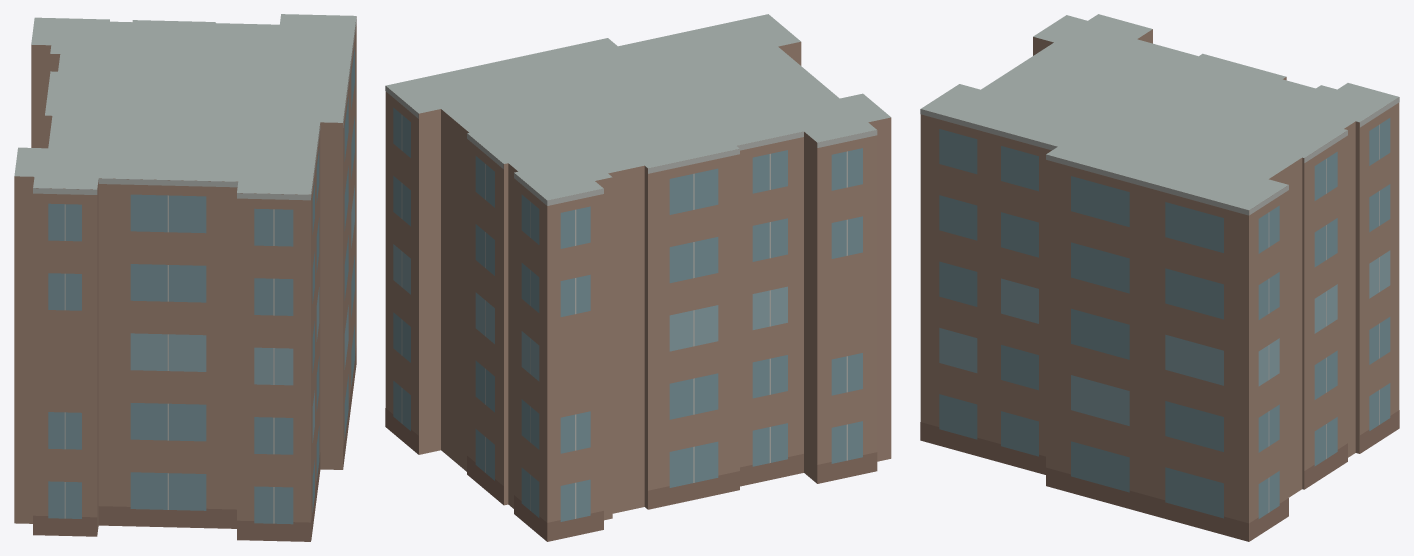
File: survey-upis-32795835.glb
The picture shows the model from 3 angles, left to right: view 1: azimuth 30°, elevation 25°; view 2: azimuth 150°, elevation 25°; view 3: azimuth 270°, elevation 25°; orthographic projection. The views are drawn at different scales.
Parts seen in each view (by area): view 1: survey-upis-32795835.tmp; view 2: survey-upis-32795835.tmp; view 3: survey-upis-32795835.tmp.
Part boxes in pixels (x1=…): survey-upis-32795835.tmp: x1=14, y1=14, x2=356, y2=541; survey-upis-32795835.tmp: x1=385, y1=14, x2=891, y2=541; survey-upis-32795835.tmp: x1=920, y1=14, x2=1399, y2=541.
Size of the model in its own units: 19.31 by 15.2 by 19.9.
